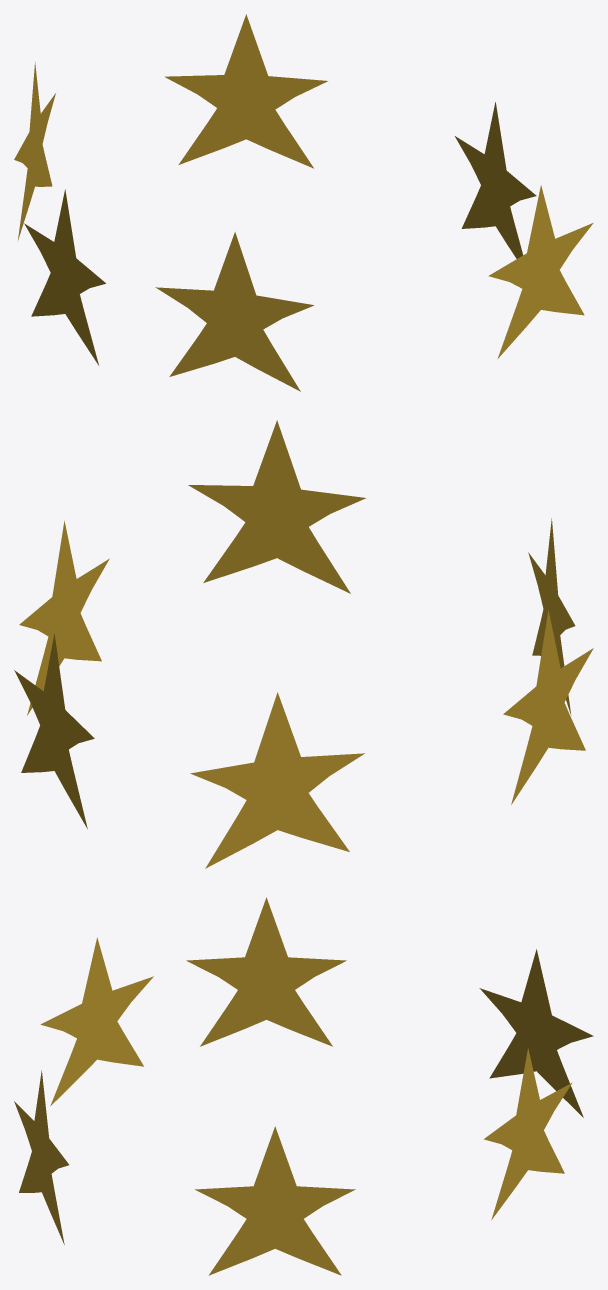
The model's file is stars_stun.obj.
3 renders of one model, top to bottom at view 1: azimuth 30°, elevation 25°; view 2: azimuth 150°, elevation 25°; view 3: azimuth 270°, elevation 25°, orthographic. The views are drawn at different scales.
Visible parts, largest first — view 1: Cube.002; view 2: Cube.002; view 3: Cube.002.
Part boxes in pixels (x1,y1,x2,y2): Cube.002: (14,14,593,391); Cube.002: (14,420,593,868); Cube.002: (14,897,593,1275).
Bounding box in the file's own units: 9.74 × 3.74 × 11.49.
